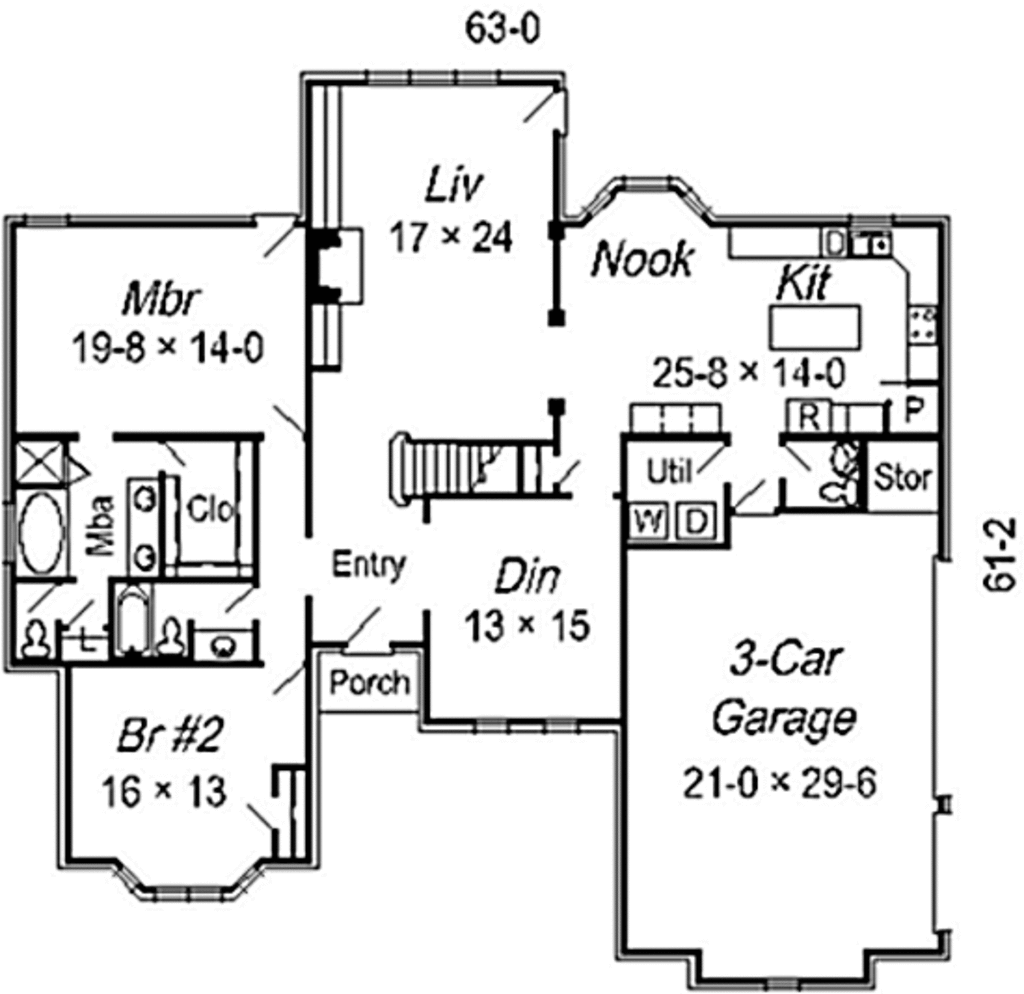kitchen_bar: (771, 294, 870, 358)
large_sink: (150, 603, 189, 659), (16, 613, 54, 669), (808, 471, 866, 507)
small_sink: (126, 479, 161, 576), (196, 634, 256, 660), (822, 441, 859, 473)
stairs: (375, 424, 576, 516)
tub: (12, 487, 81, 575)
twin_sink: (844, 231, 899, 259)
window: (582, 161, 715, 228), (101, 865, 274, 909), (475, 705, 589, 735)
